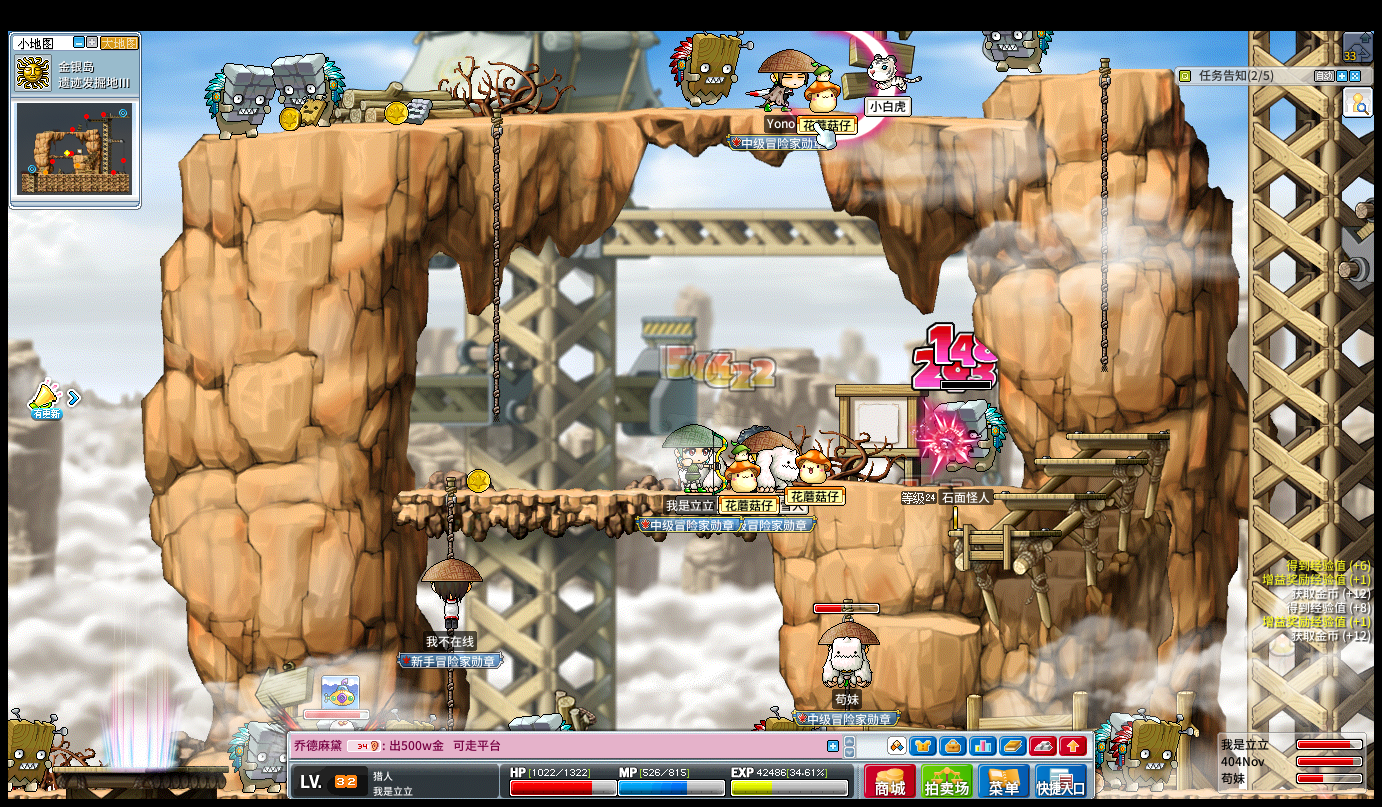floor: (211, 103, 1044, 138), (393, 488, 784, 499), (875, 612, 980, 634), (1004, 65, 1171, 78), (1001, 67, 1173, 79), (878, 481, 1027, 490), (1064, 429, 1171, 441), (947, 528, 1061, 536), (1029, 456, 1143, 464), (994, 492, 1105, 500)
monster: (1102, 711, 1191, 792), (668, 26, 742, 110), (203, 62, 274, 139), (3, 712, 66, 790), (946, 398, 1008, 473), (284, 52, 346, 126), (227, 722, 287, 792)
rope: (1096, 57, 1111, 368), (491, 103, 502, 421), (442, 475, 457, 559)
